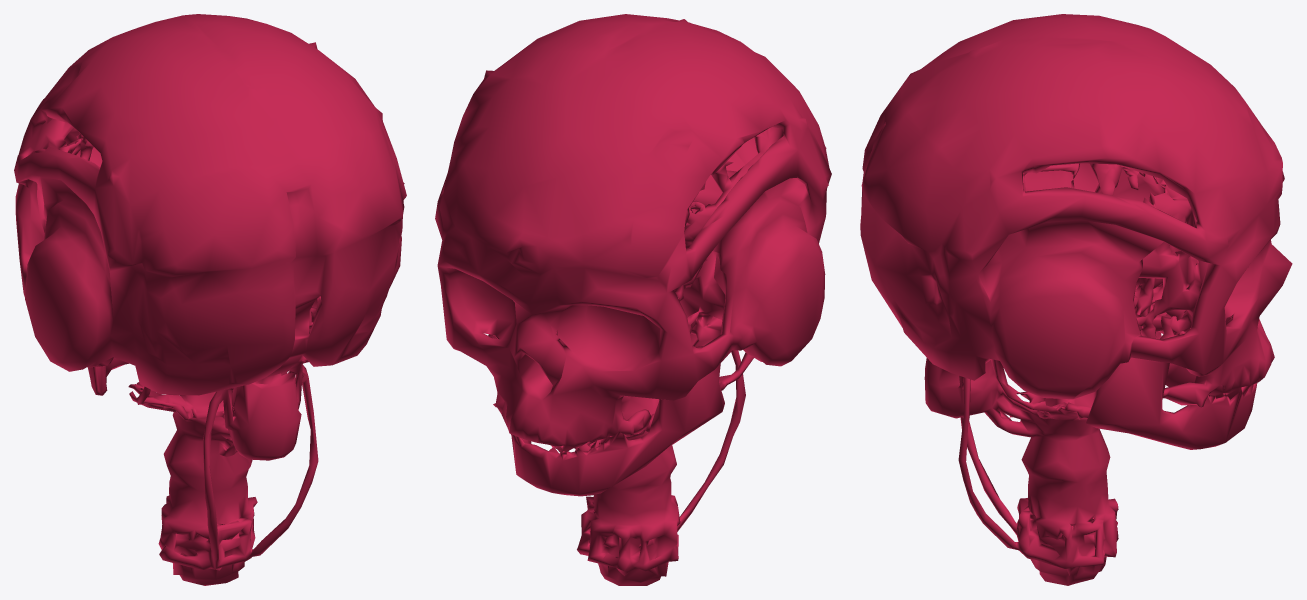
The model's file is avatar_signal.glb.
3 views of the same model, side by side, from view 1: azimuth 30°, elevation 25°; view 2: azimuth 150°, elevation 25°; view 3: azimuth 270°, elevation 25° (orthographic).
Visible parts, largest first — view 1: avatar_signal; view 2: avatar_signal; view 3: avatar_signal.
Part boxes in pixels (x1=…): avatar_signal: x1=14, y1=14, x2=406, y2=585; avatar_signal: x1=435, y1=14, x2=831, y2=585; avatar_signal: x1=860, y1=14, x2=1292, y2=585.
Bounding box in the file's own units: 1.26 × 2 × 1.44.
